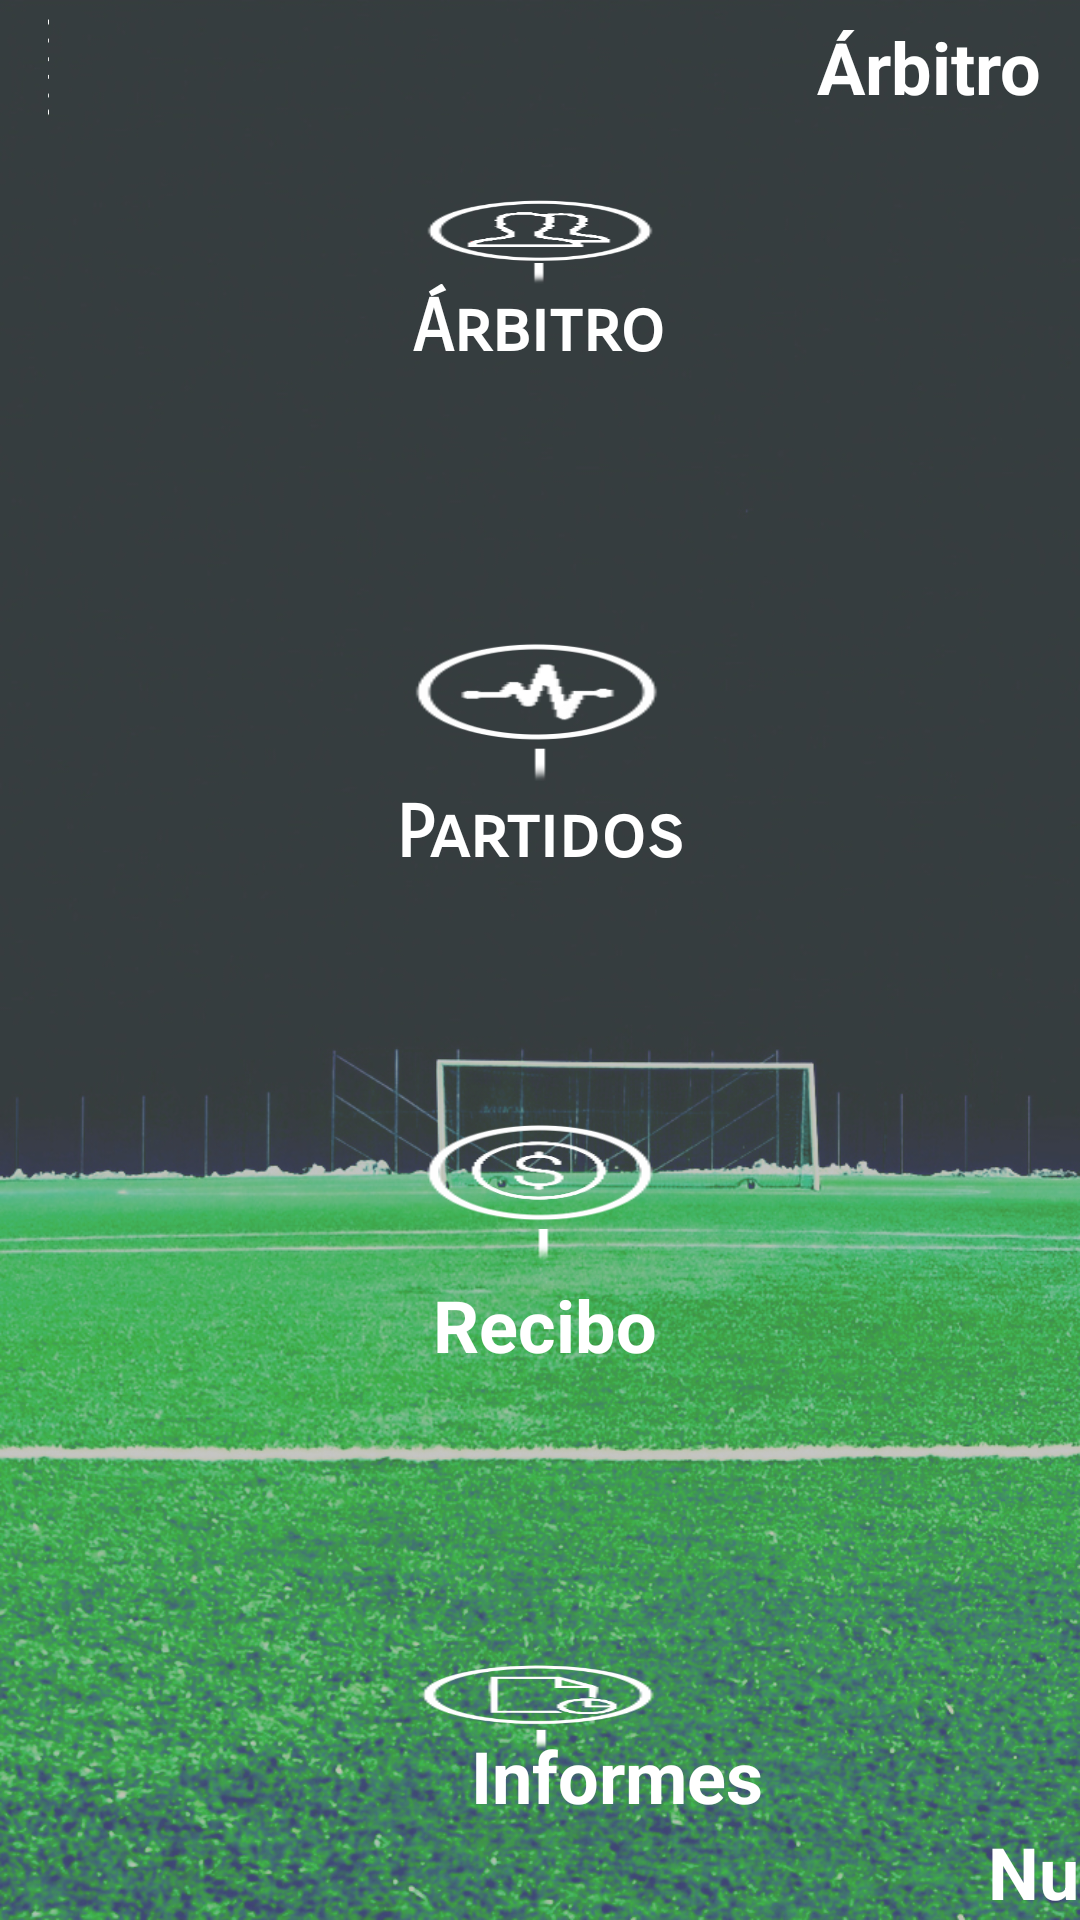

Named icons in this screenshot (1080px x 1920px) and their centers, [x,y]:
iconousers: [540,241]
